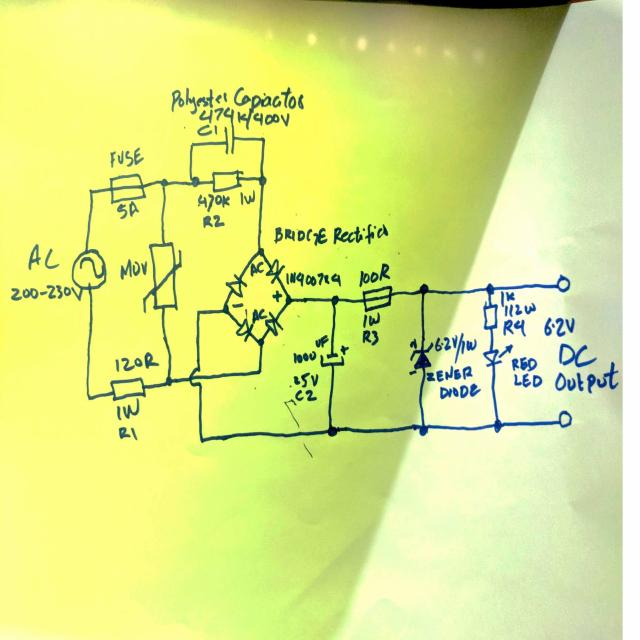capacitor: (319, 343, 350, 367), (223, 120, 235, 155)
crossover: (188, 366, 204, 392)
diode: (408, 337, 435, 375), (482, 344, 514, 367), (225, 272, 248, 296), (264, 310, 284, 337), (265, 258, 285, 284), (236, 318, 254, 342)
junction: (326, 423, 338, 438), (491, 418, 502, 434), (418, 424, 430, 438), (417, 282, 429, 296), (483, 281, 495, 295), (220, 301, 230, 316), (256, 335, 266, 350), (330, 292, 340, 307), (190, 174, 200, 188), (258, 173, 268, 187), (256, 245, 266, 259), (283, 292, 293, 306), (164, 374, 173, 387), (160, 177, 168, 189), (188, 139, 196, 151), (255, 367, 264, 377), (259, 134, 266, 146), (195, 306, 202, 318), (198, 434, 206, 444), (85, 393, 92, 404), (88, 187, 95, 197)
resistor: (109, 376, 147, 402), (211, 168, 244, 192), (482, 301, 498, 331)
source: (71, 247, 107, 288)
terminal: (554, 272, 570, 293), (556, 409, 572, 429)
text: (170, 87, 304, 110), (275, 221, 389, 247), (554, 361, 620, 395), (426, 364, 482, 400), (197, 108, 291, 127), (435, 332, 477, 364), (10, 284, 83, 302), (284, 271, 342, 289), (558, 342, 597, 367), (26, 242, 60, 270), (114, 351, 158, 372), (358, 261, 391, 289), (109, 146, 144, 167), (120, 257, 148, 280), (543, 316, 575, 336), (196, 193, 231, 211), (116, 397, 140, 420), (512, 370, 542, 388), (116, 200, 140, 220), (116, 423, 140, 442), (503, 303, 537, 316), (292, 371, 319, 387), (511, 356, 537, 372), (502, 319, 526, 336), (292, 349, 316, 365), (202, 213, 224, 230), (361, 311, 381, 328), (360, 329, 380, 345), (295, 389, 318, 402), (194, 124, 218, 136), (240, 189, 256, 206), (249, 261, 265, 277), (500, 290, 516, 306), (252, 308, 266, 324), (314, 334, 328, 349), (231, 301, 245, 311), (272, 290, 282, 303)
